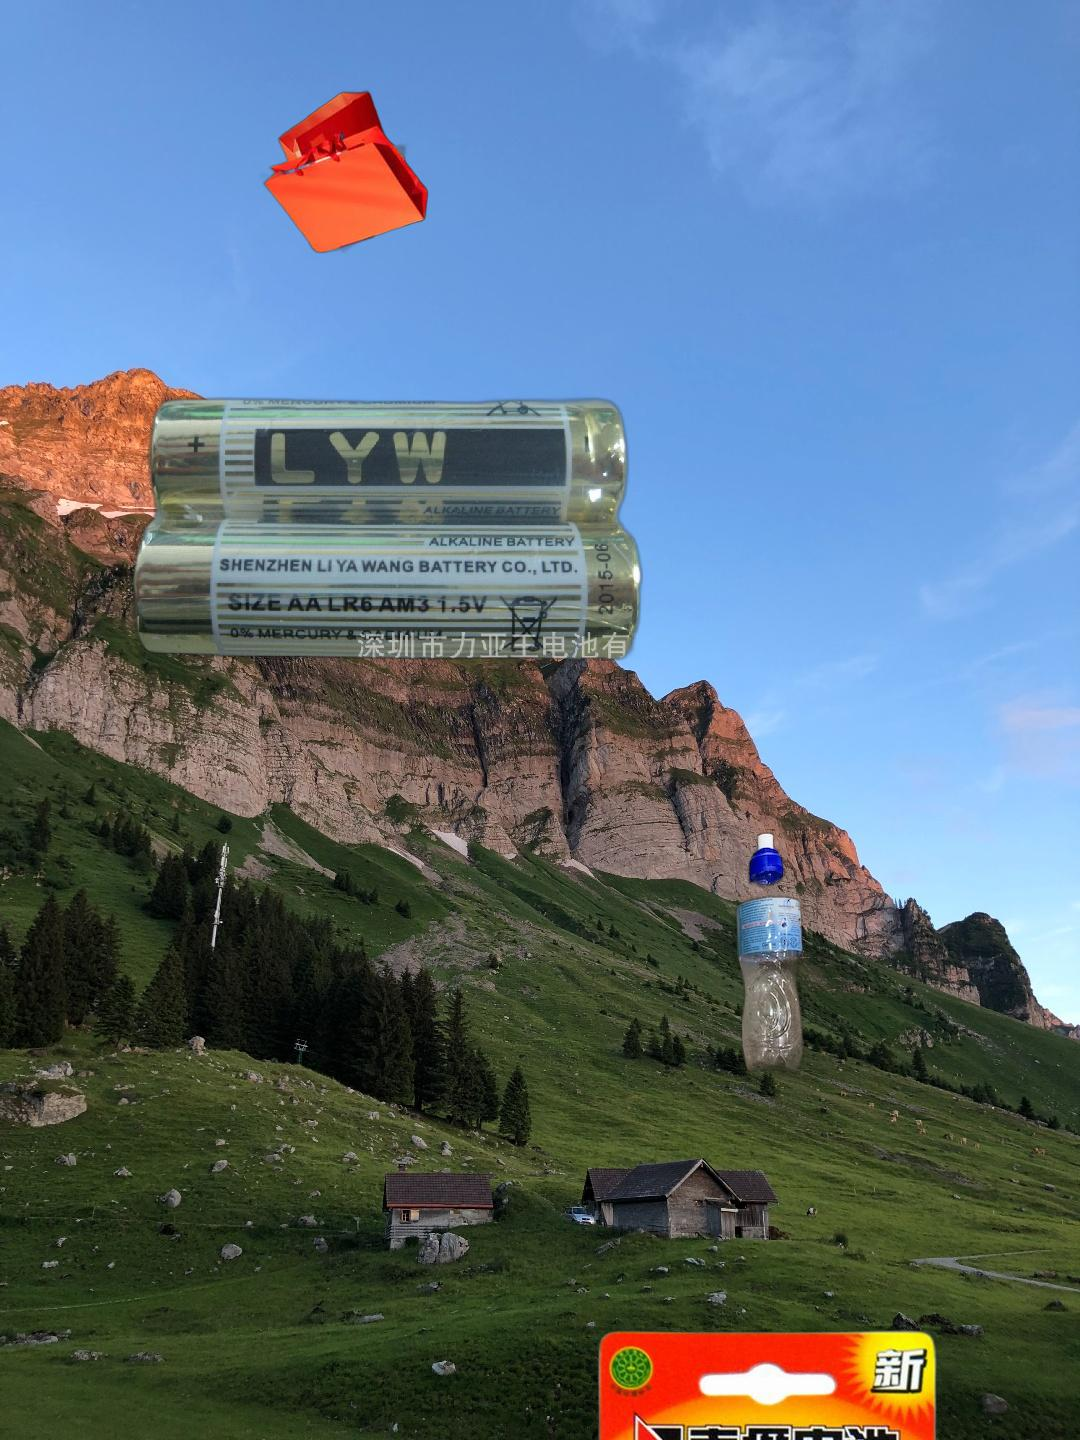battery: (127, 393, 649, 664), (584, 1313, 1080, 1440)
paper-bag: (256, 88, 431, 255)
plastic-bottles: (732, 828, 807, 1085)
